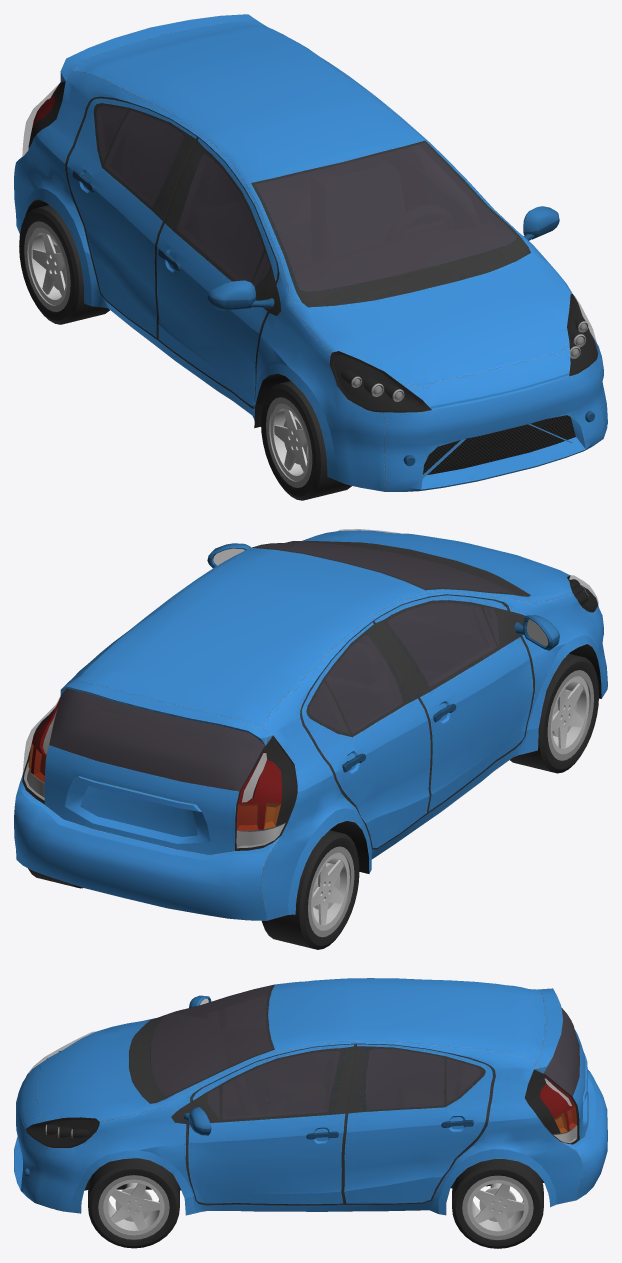
The model's file is yukon-compact-t2-13cc3f.glb.
3 renders of one model, top to bottom at view 1: azimuth 30°, elevation 25°; view 2: azimuth 150°, elevation 25°; view 3: azimuth 270°, elevation 25°, orthographic. The views are drawn at different scales.
Parts seen in each view (by area): view 1: body, wheel-front-right, wheel-back-right; view 2: body, wheel-back-right, wheel-front-right; view 3: body, wheel-front-left, wheel-back-left.
Part boxes in pixels (x1=…): body: x1=14, y1=14, x2=607, y2=491; wheel-front-right: x1=261, y1=381, x2=351, y2=500; wheel-back-right: x1=19, y1=205, x2=109, y2=324; body: x1=14, y1=529, x2=607, y2=920; wheel-back-right: x1=261, y1=830, x2=359, y2=949; wheel-front-right: x1=510, y1=653, x2=598, y2=773; body: x1=14, y1=978, x2=607, y2=1221; wheel-front-left: x1=88, y1=1158, x2=179, y2=1248; wheel-back-left: x1=452, y1=1159, x2=543, y2=1248.
Size of the model in its own units: 2.13 by 1.45 by 4.11.
5 materials, 2 textured.
